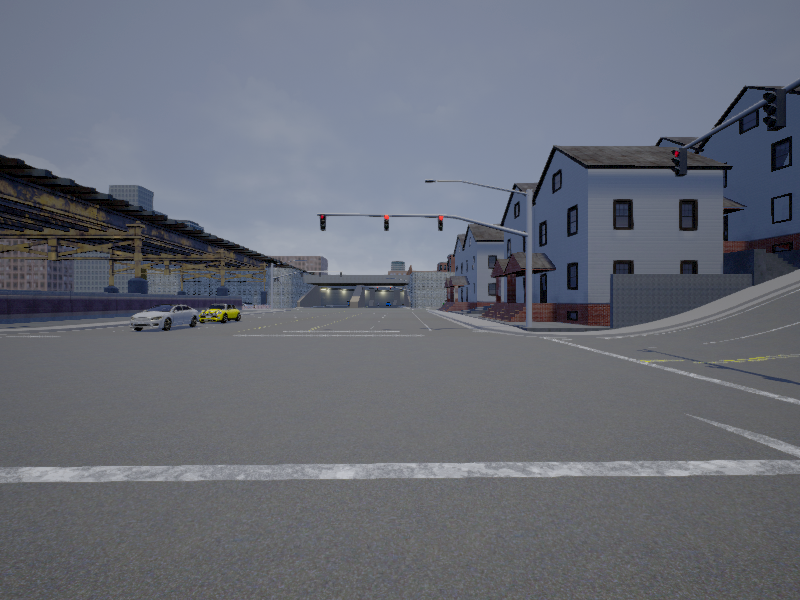benign: (132, 305, 199, 328), (201, 305, 241, 323)
